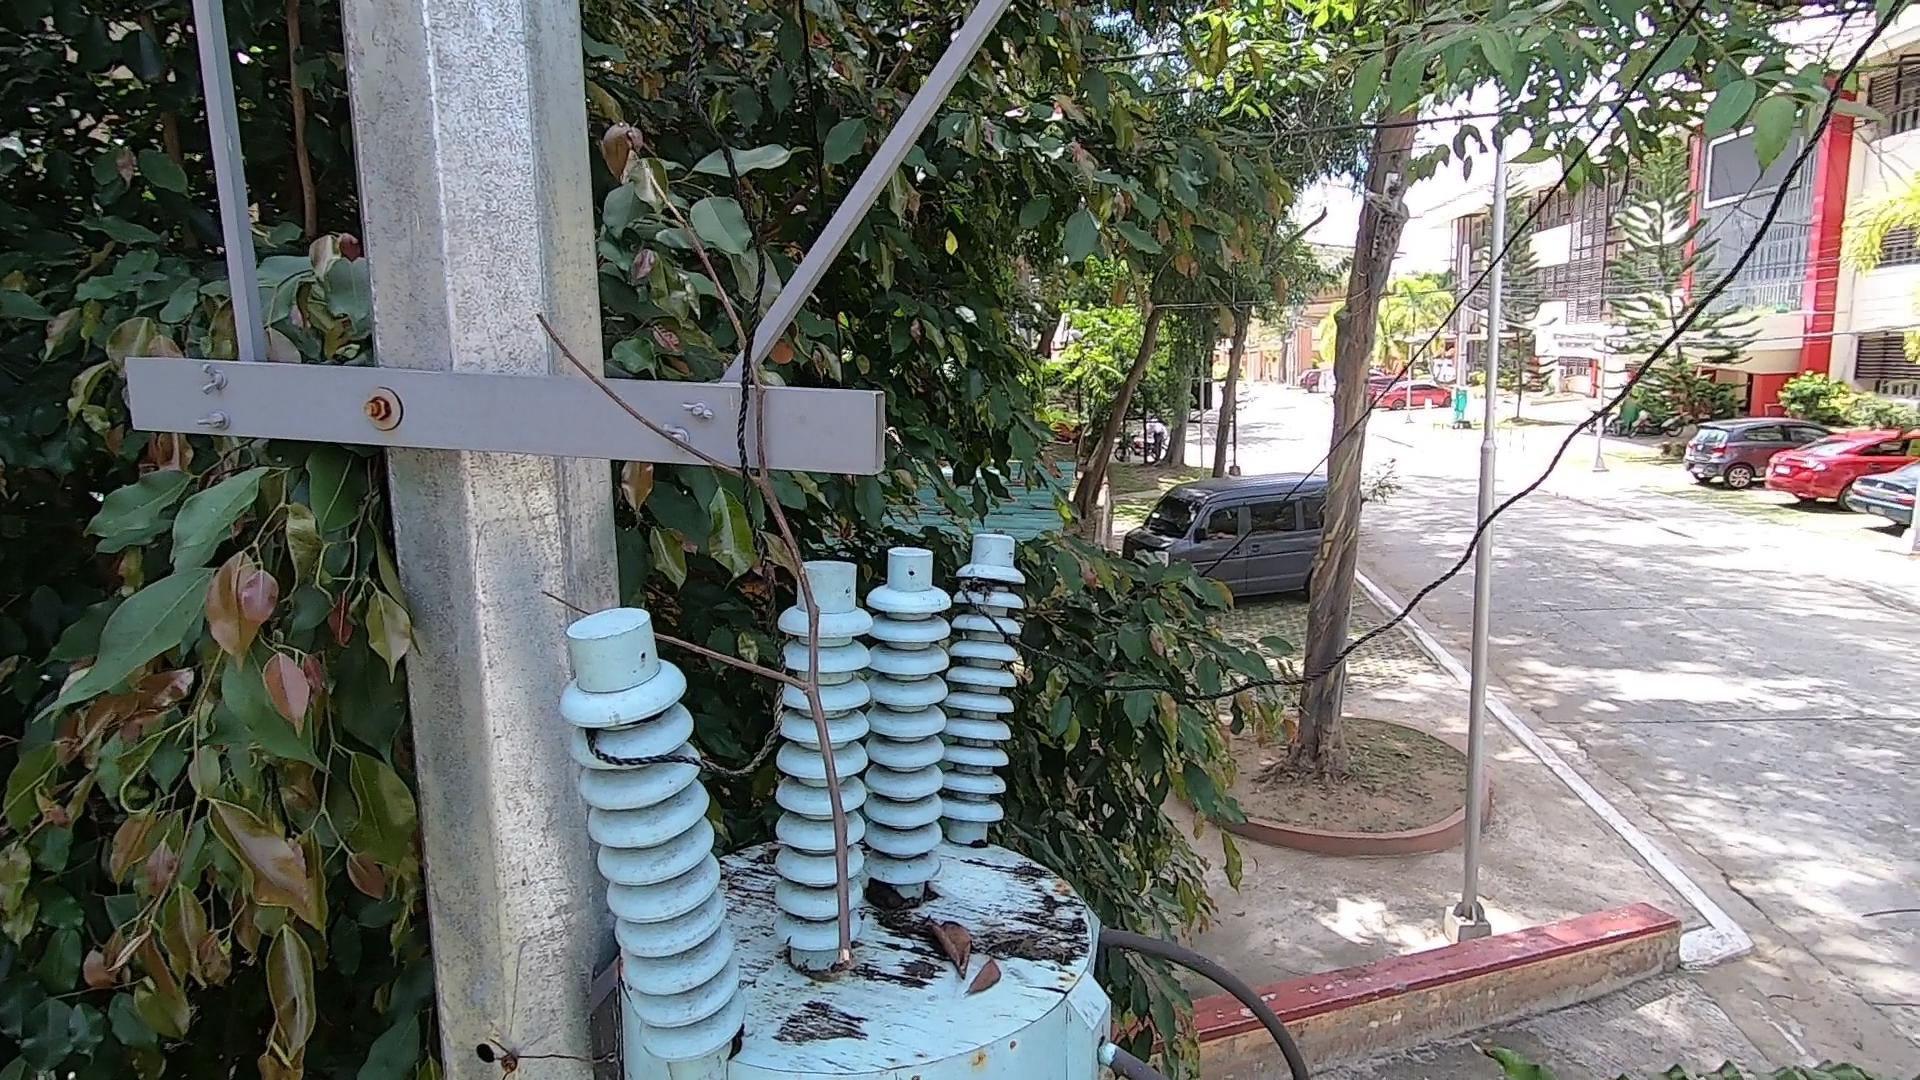leaf: (866, 872, 931, 942), (924, 909, 978, 982), (957, 964, 1026, 1004)
tree branch: (524, 185, 910, 957)
